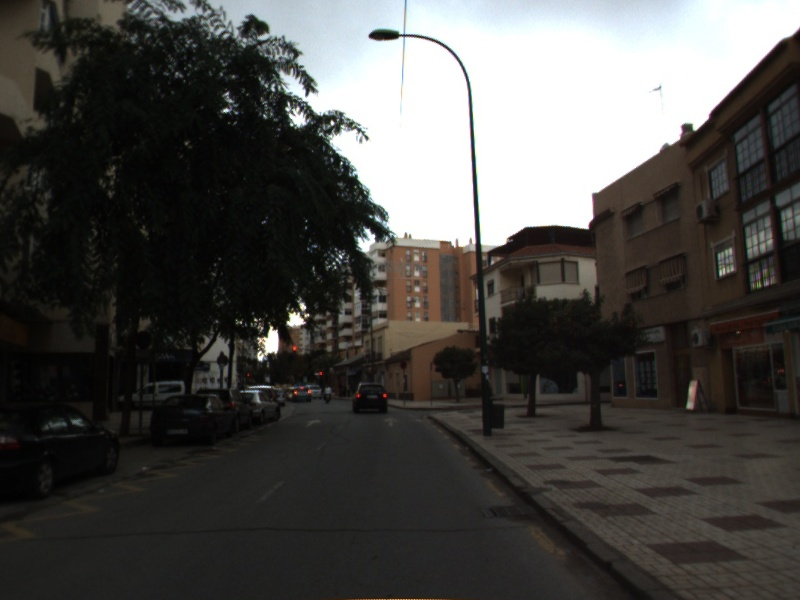STRAIGHT: (381, 415, 402, 428), (303, 417, 323, 429)
